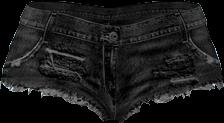Hemline: (1, 79, 103, 120), (121, 86, 222, 122)
Pantleg: (2, 1, 114, 121), (114, 1, 222, 122)
Waistline: (27, 4, 198, 26)
